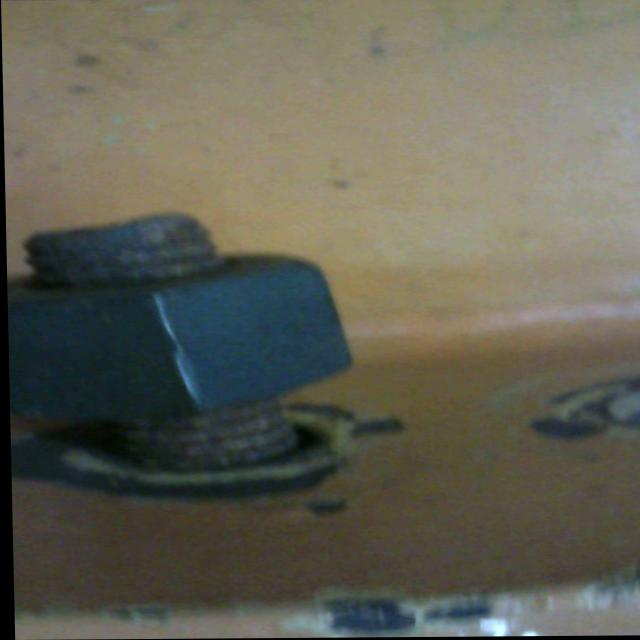Loose bolt: (18, 223, 371, 482)
Missing bolt: (586, 389, 640, 440)
Rusty bolt: (28, 212, 363, 489)
